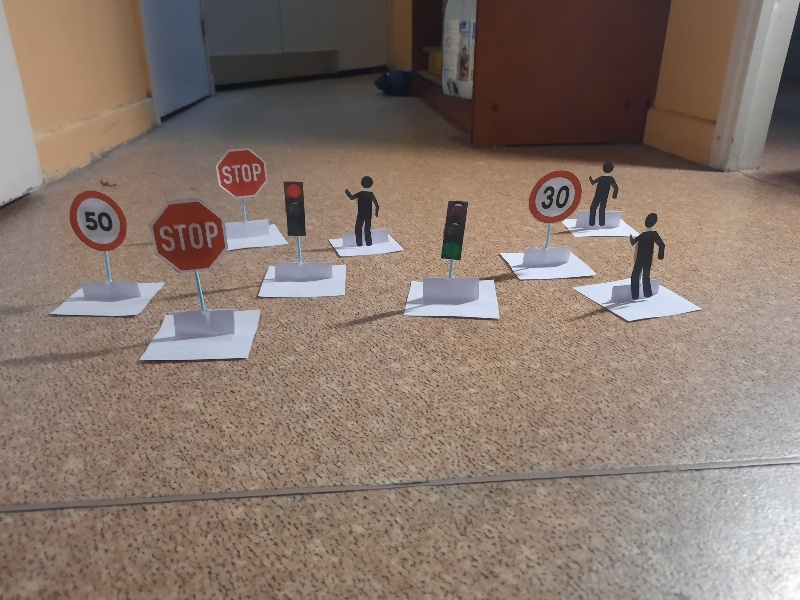Green: (440, 201, 465, 258)
Limit 30: (528, 172, 582, 221)
Limit 50: (72, 192, 127, 251)
Person: (627, 214, 666, 297), (344, 175, 379, 244), (590, 163, 618, 228)
Red: (286, 182, 305, 236)
Stop: (152, 201, 229, 272), (216, 147, 268, 196)
